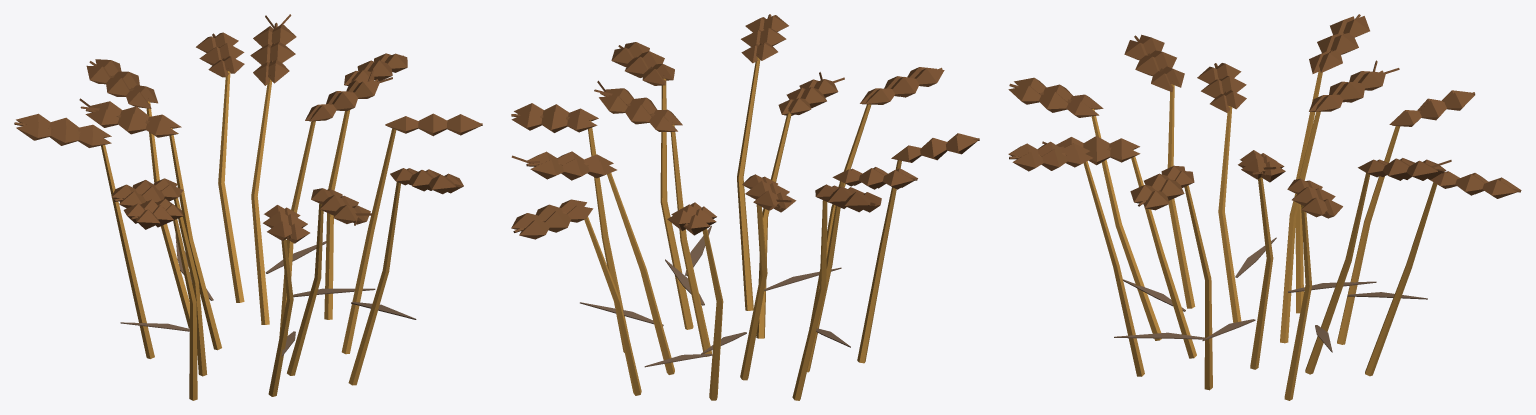
The model's file is crop_wheat_overripe.glb.
3 views of the same model, side by side, from view 1: azimuth 30°, elevation 25°; view 2: azimuth 150°, elevation 25°; view 3: azimuth 270°, elevation 25° (orthographic). The views are drawn at different scales.
Parts seen in each view (by area): view 1: wheat_head_00_awn_0, wheat_stalk_00, wheat_leaf_00_0; view 2: wheat_head_00_awn_0, wheat_stalk_00, wheat_leaf_00_0; view 3: wheat_head_00_awn_0, wheat_stalk_00, wheat_leaf_00_0.
Boxes of the visible parts, x1,y1,x2,y2 form: wheat_head_00_awn_0: (14, 14, 482, 243); wheat_stalk_00: (101, 71, 400, 400); wheat_leaf_00_0: (120, 234, 416, 356); wheat_head_00_awn_0: (511, 14, 979, 239); wheat_stalk_00: (584, 57, 901, 400); wheat_leaf_00_0: (580, 225, 850, 367); wheat_head_00_awn_0: (1008, 14, 1521, 218); wheat_stalk_00: (1083, 67, 1437, 400); wheat_leaf_00_0: (1114, 237, 1427, 352).
Bounding box in the file's own units: 1.35 × 0.8405 × 1.55.
